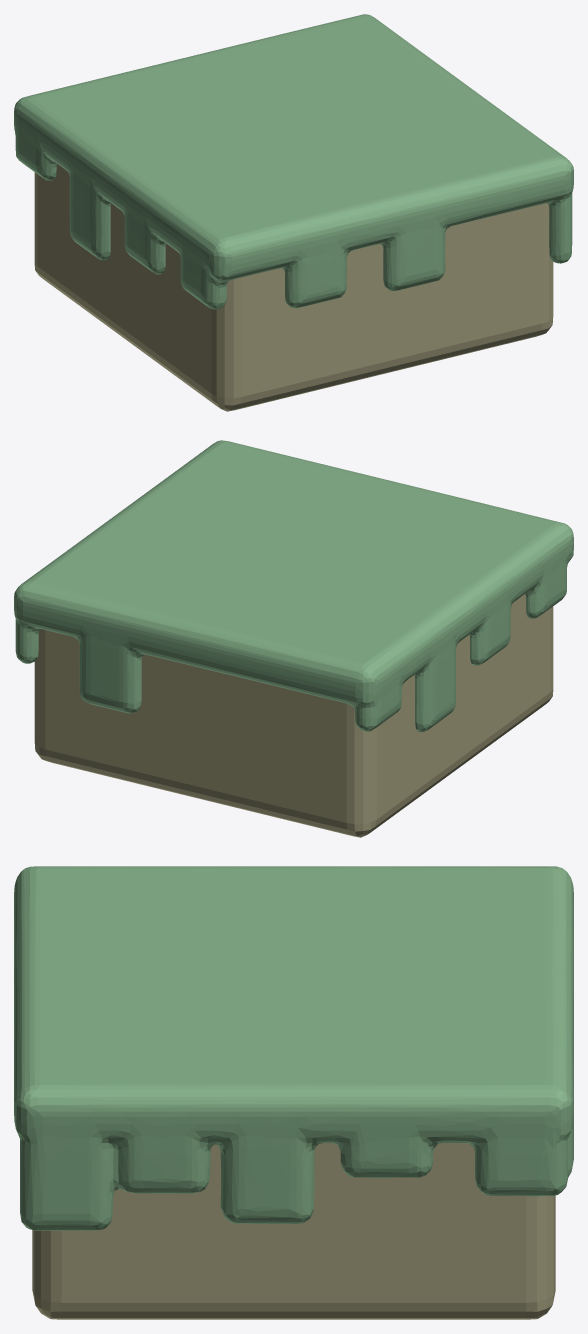
Rendered from Block_4_POGGERS.fbx.
3 renders of one model, top to bottom at view 1: azimuth 30°, elevation 25°; view 2: azimuth 150°, elevation 25°; view 3: azimuth 270°, elevation 25°, orthographic. The views are drawn at different scales.
Visible parts, largest first — view 1: GRASS8:Mesh1; view 2: GRASS8:Mesh1; view 3: GRASS8:Mesh1.
Part boxes in pixels (bbox=[...]): GRASS8:Mesh1: bbox=[14, 14, 573, 411]; GRASS8:Mesh1: bbox=[14, 440, 573, 837]; GRASS8:Mesh1: bbox=[14, 866, 573, 1319].
Bounding box in the file's own units: 107 × 51.1 × 107.
